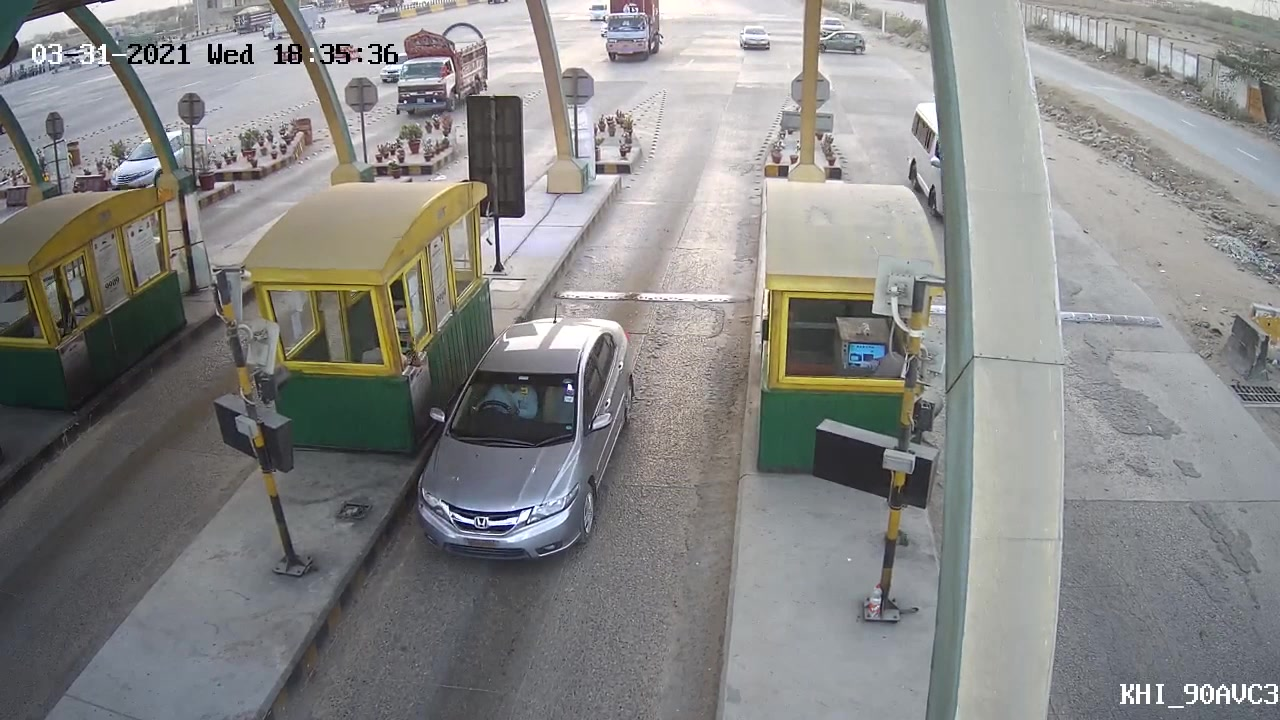F1: (401, 300, 637, 563)
